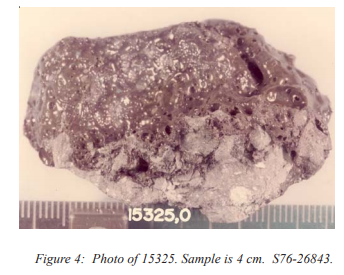Breccia: (22, 25, 320, 211)
